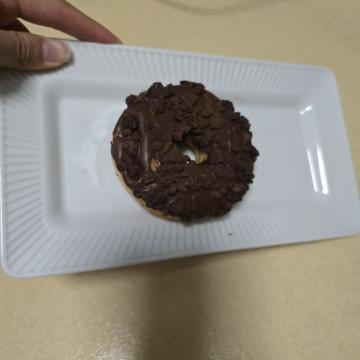doughnut: (73, 94, 236, 267)
